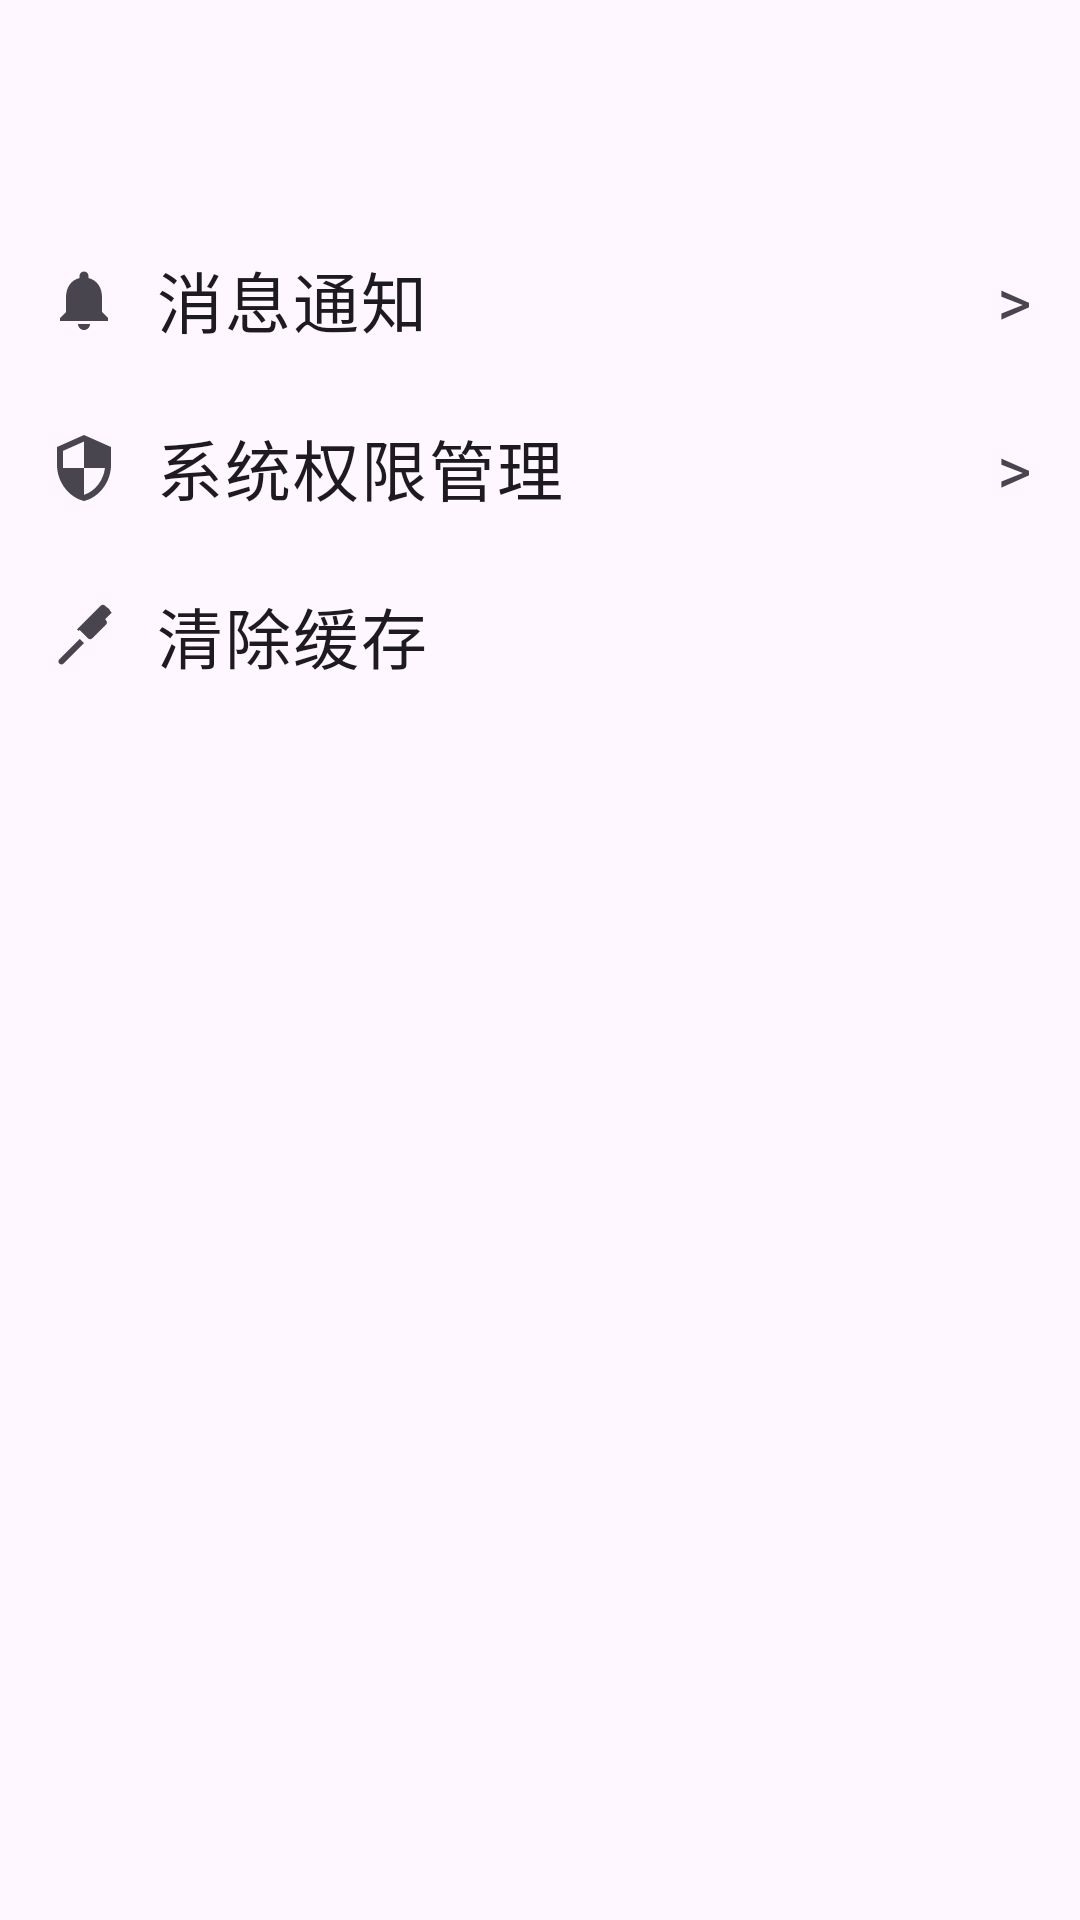

Locate icon controls on the screen. Image size 1080*1920, boxes as (x1, y1, x2, y2).
broom: (58, 604, 112, 665)
notification: (60, 271, 108, 330)
shield: (57, 435, 111, 501)
